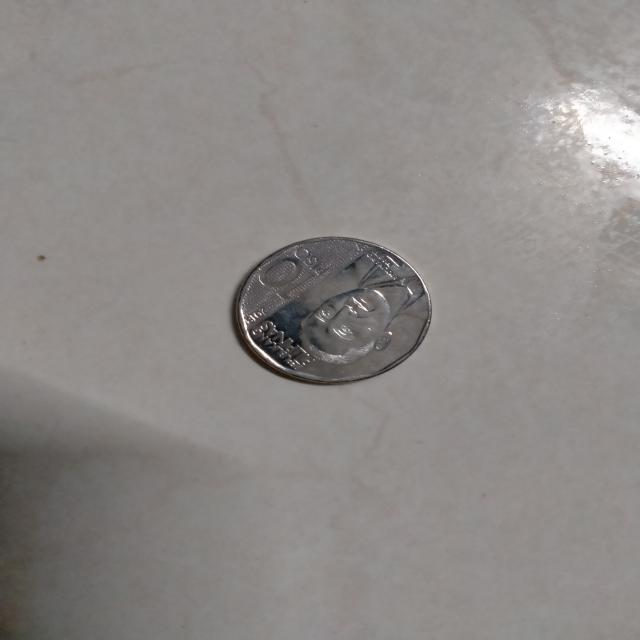10_New_Front: (250, 244, 406, 370)
